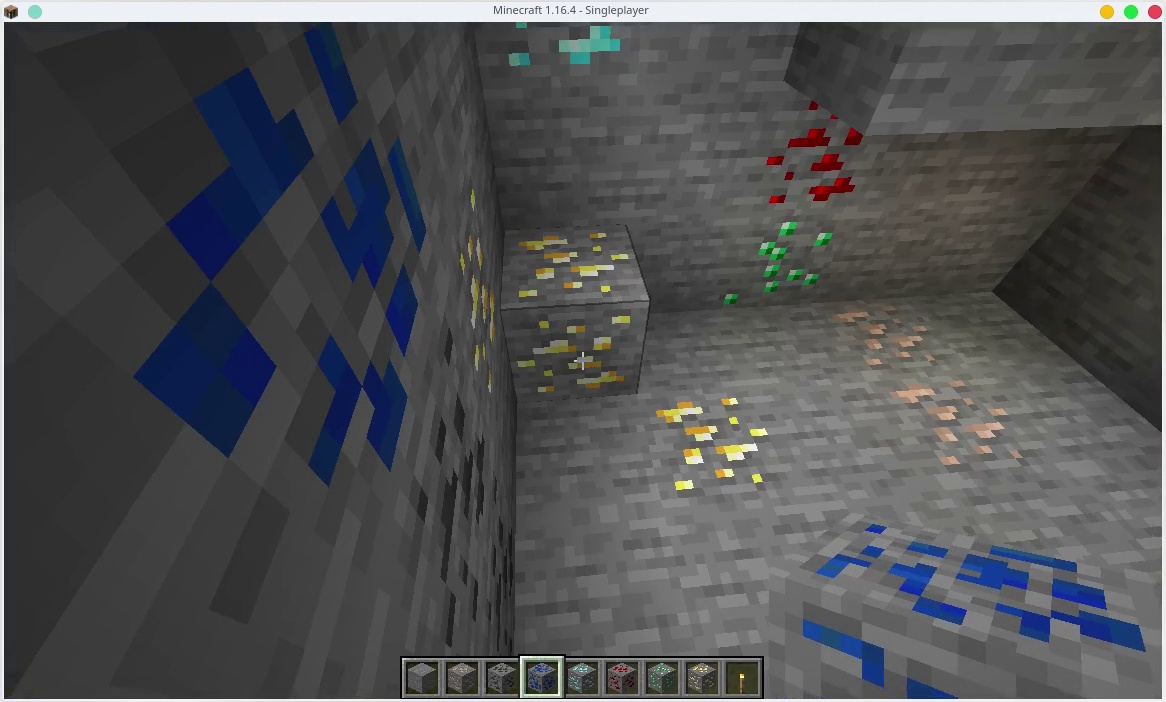gold: (512, 211, 637, 396), (643, 398, 786, 504), (462, 180, 515, 381), (685, 665, 715, 692)
